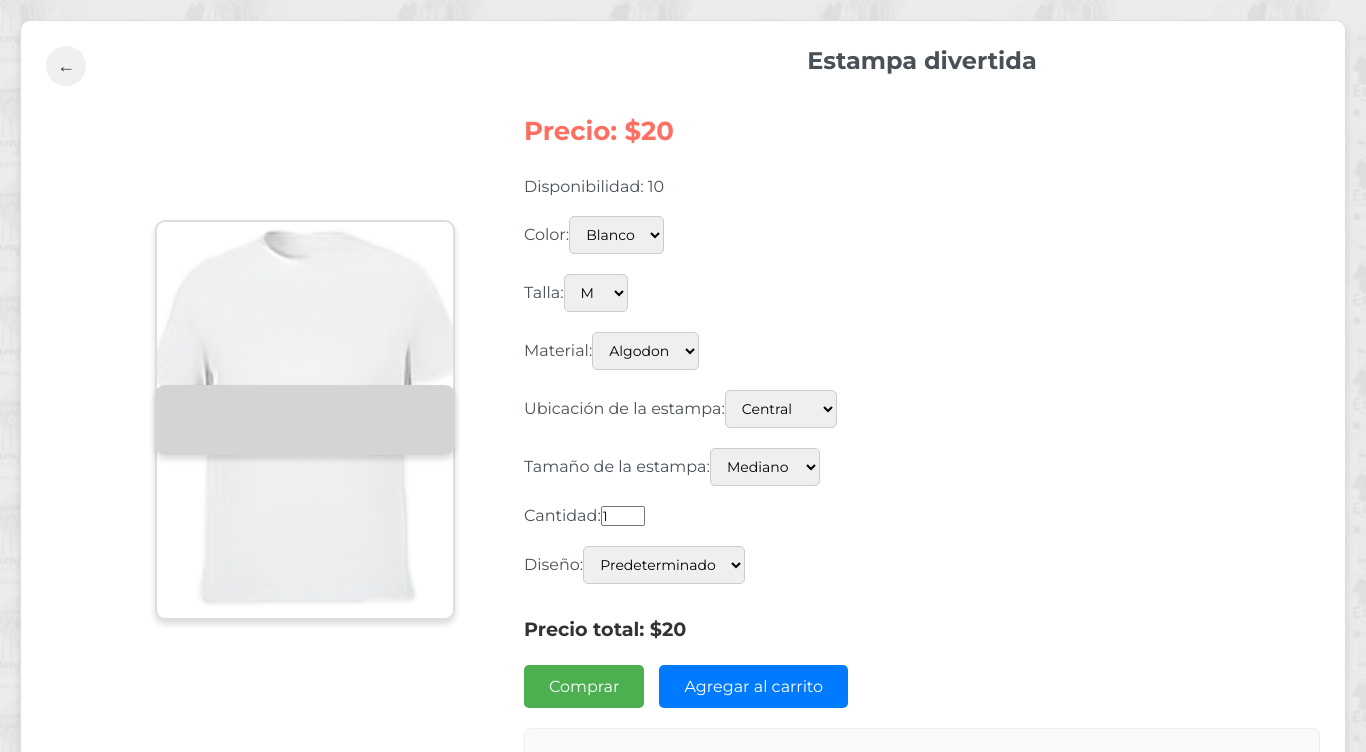
Test: debería actualizar el precio total cuando cambia la cantidad
Check: the text "Precio total: $20" is shown, box x1=524 y1=617 x2=686 y2=641
# Cambiar la cantidad a 3
Replace the text in the number field labelled "Cantidad:" with "3" at [623, 516], box x1=601 y1=506 x2=645 y2=526
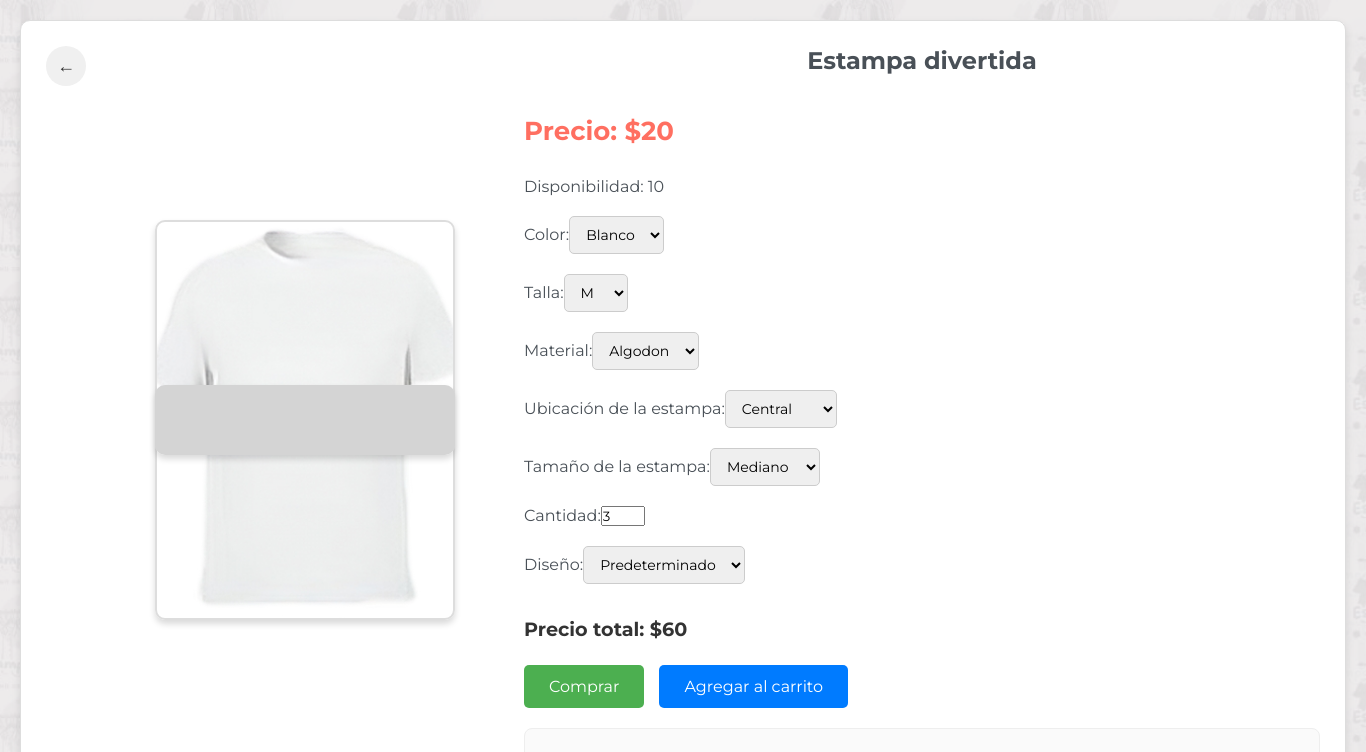
Check: the text "Precio total: $60" is shown, box x1=524 y1=617 x2=687 y2=641
